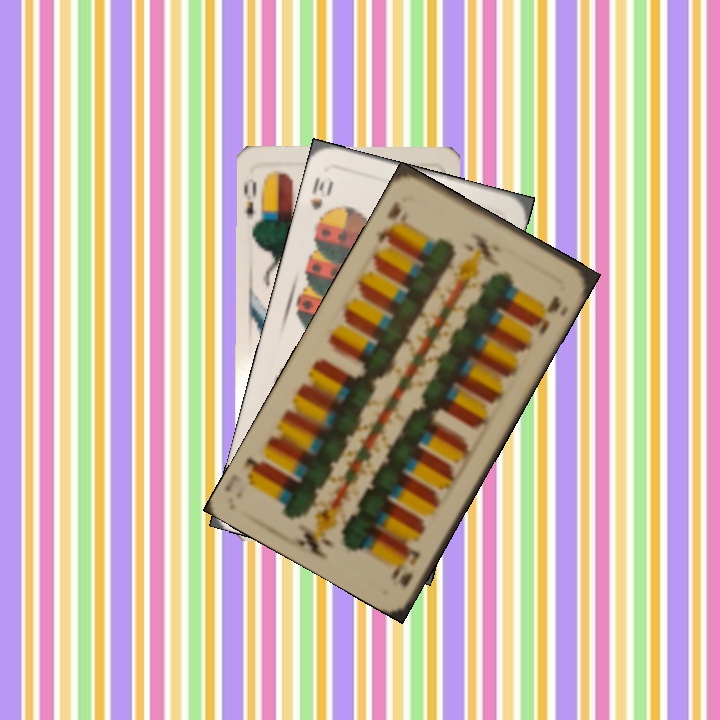E10: (371, 197, 411, 248), (387, 543, 423, 590)
EO: (242, 177, 268, 227)
S10: (306, 173, 336, 227)
